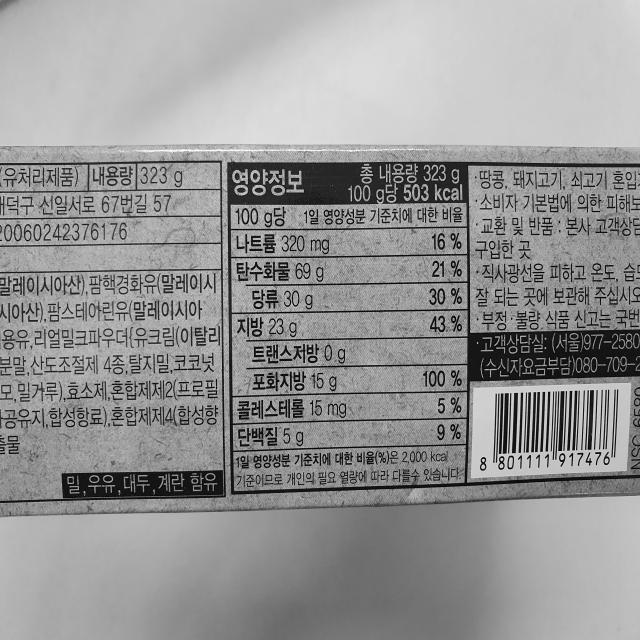Nutrition Label: (219, 149, 476, 500)
